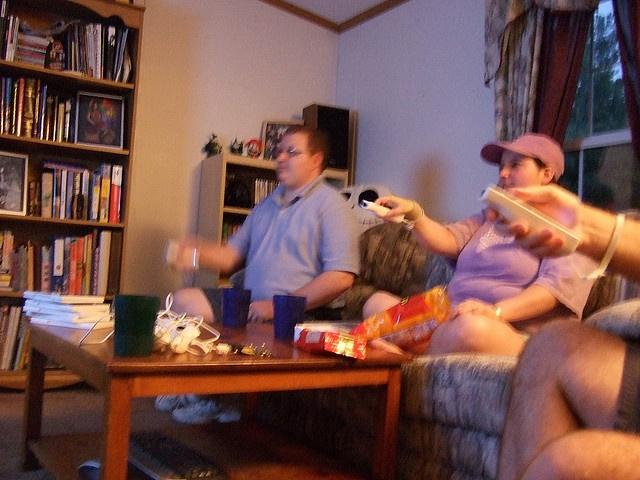Meja: (19, 317, 412, 444)
Rak: (0, 1, 146, 299)
